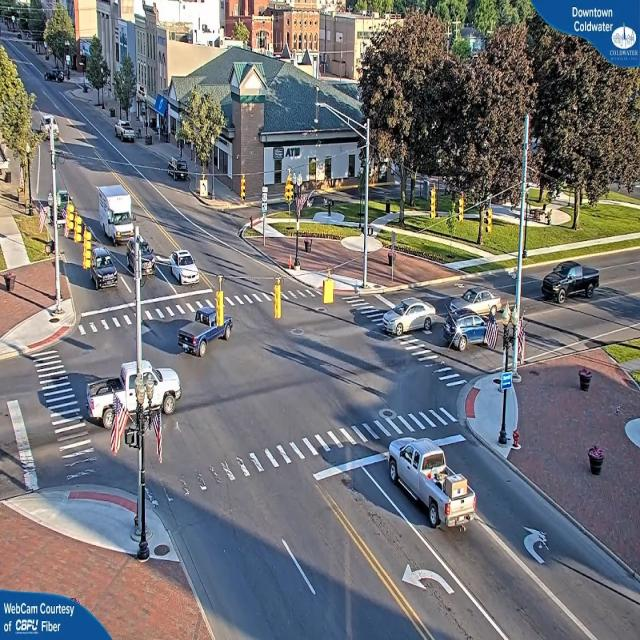car: (386, 438, 474, 537), (86, 356, 175, 426), (178, 299, 235, 362), (377, 298, 438, 340), (541, 262, 602, 302), (441, 309, 495, 350), (451, 286, 504, 318), (124, 236, 159, 280), (167, 251, 199, 287), (90, 247, 115, 287), (165, 158, 189, 180), (116, 123, 135, 143)
truck: (101, 183, 138, 243)
